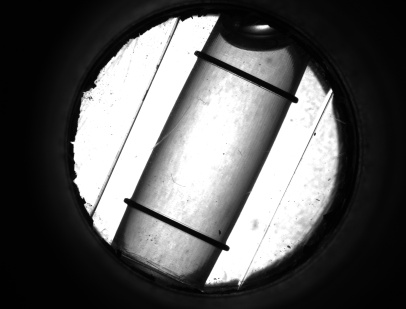line: (207, 52, 278, 96), (139, 201, 209, 245)
